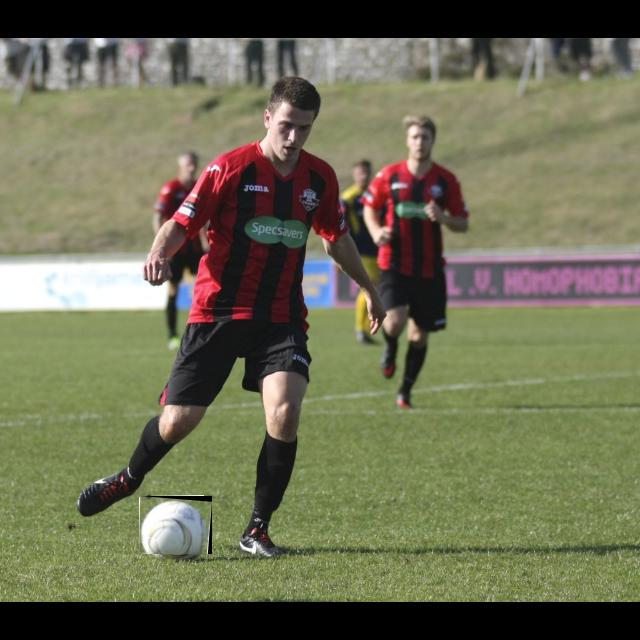Football: (140, 496, 212, 554)
